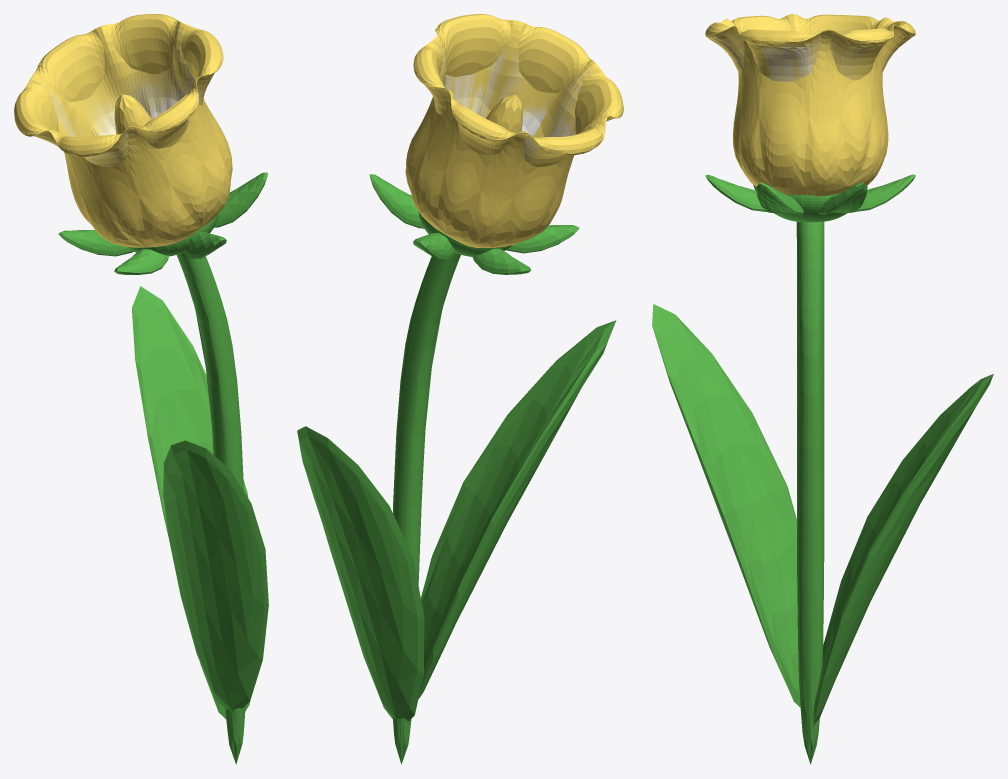
The model's file is Gratitude_Campanula.glb.
3 views of the same model, side by side, from view 1: azimuth 30°, elevation 25°; view 2: azimuth 150°, elevation 25°; view 3: azimuth 270°, elevation 25° (orthographic). The views are drawn at different scales.
Parts seen in each view (by area): view 1: Cylinder.001; view 2: Cylinder.001; view 3: Cylinder.001.
Boxes of the visible parts, x1=… form: Cylinder.001: x1=14, y1=14, x2=268, y2=764; Cylinder.001: x1=297, y1=14, x2=623, y2=764; Cylinder.001: x1=652, y1=14, x2=993, y2=764.
Bounding box in the file's own units: 3.55 × 10.26 × 4.45.
3 materials, 1 textured.
